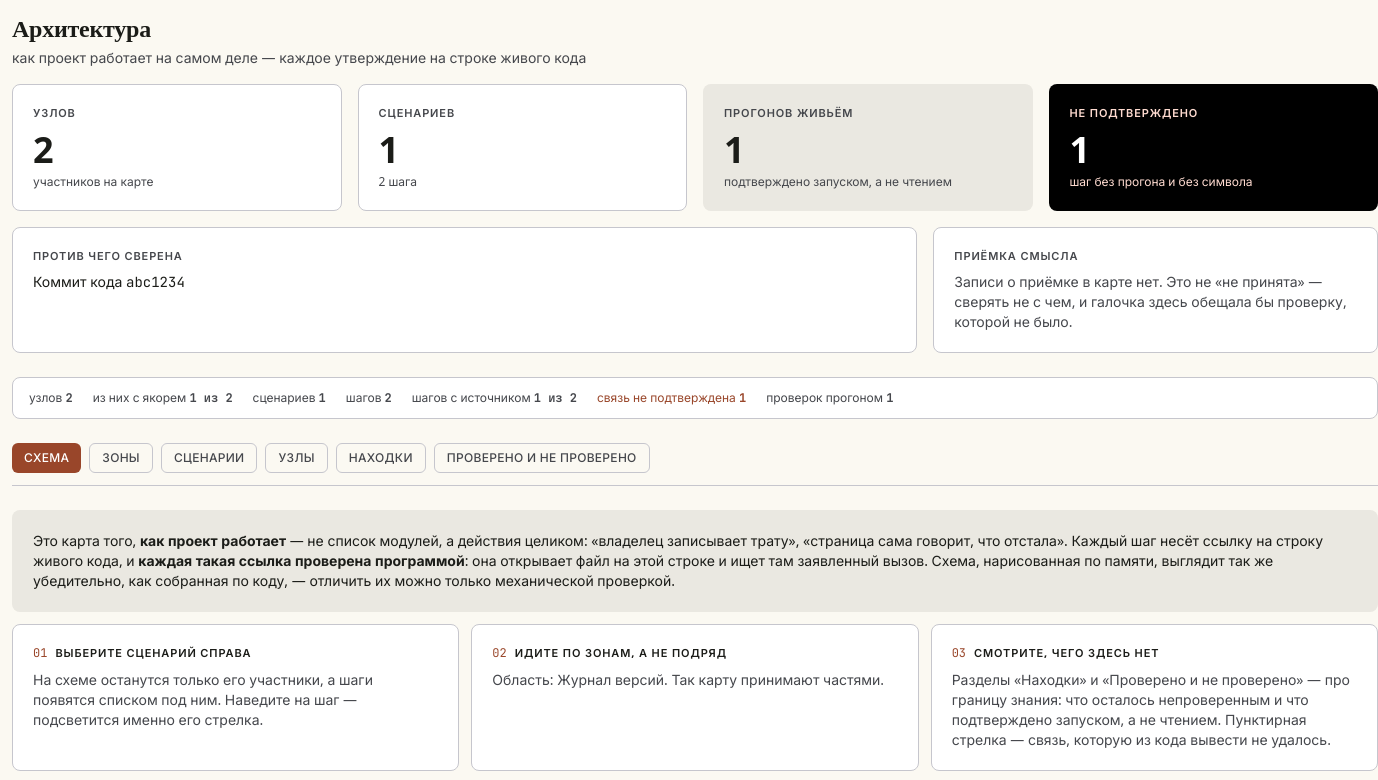
ArchitectureView › склоняет счётчики
Click the button "Зоны".
click(121, 458)  # box [89,443,153,473]
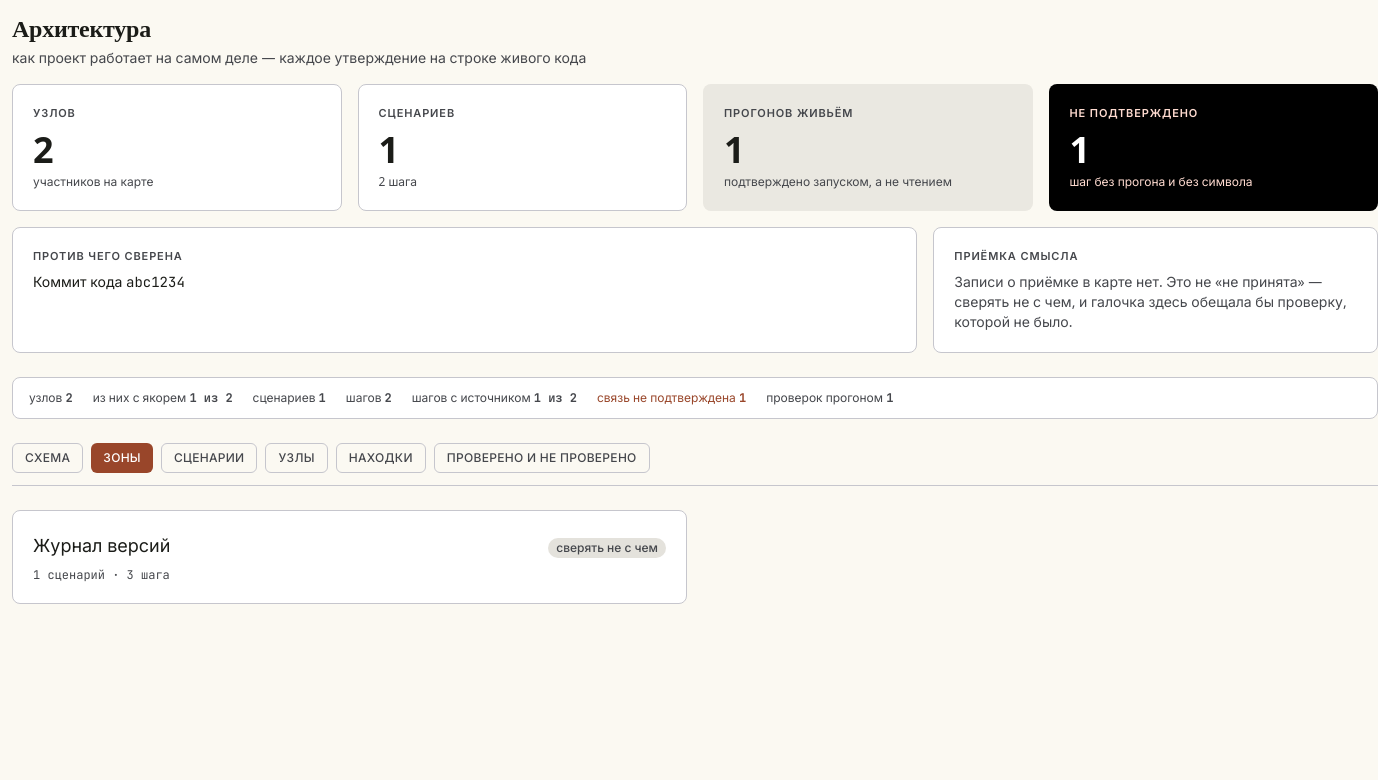
Result: the text "1 сценарий · 3 шага" is shown at [33,567,170,583]
